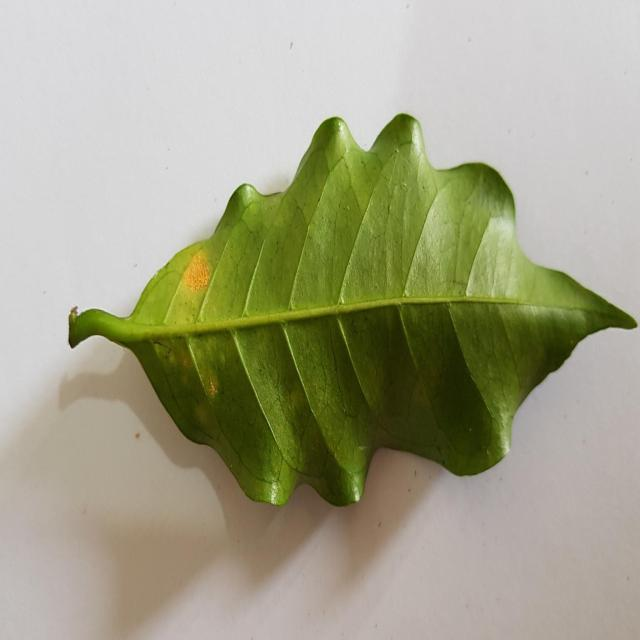rust: (183, 248, 212, 292), (201, 376, 218, 402)
